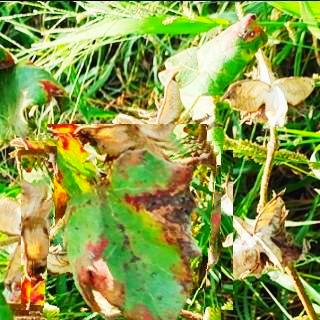blight: (31, 134, 221, 320)
